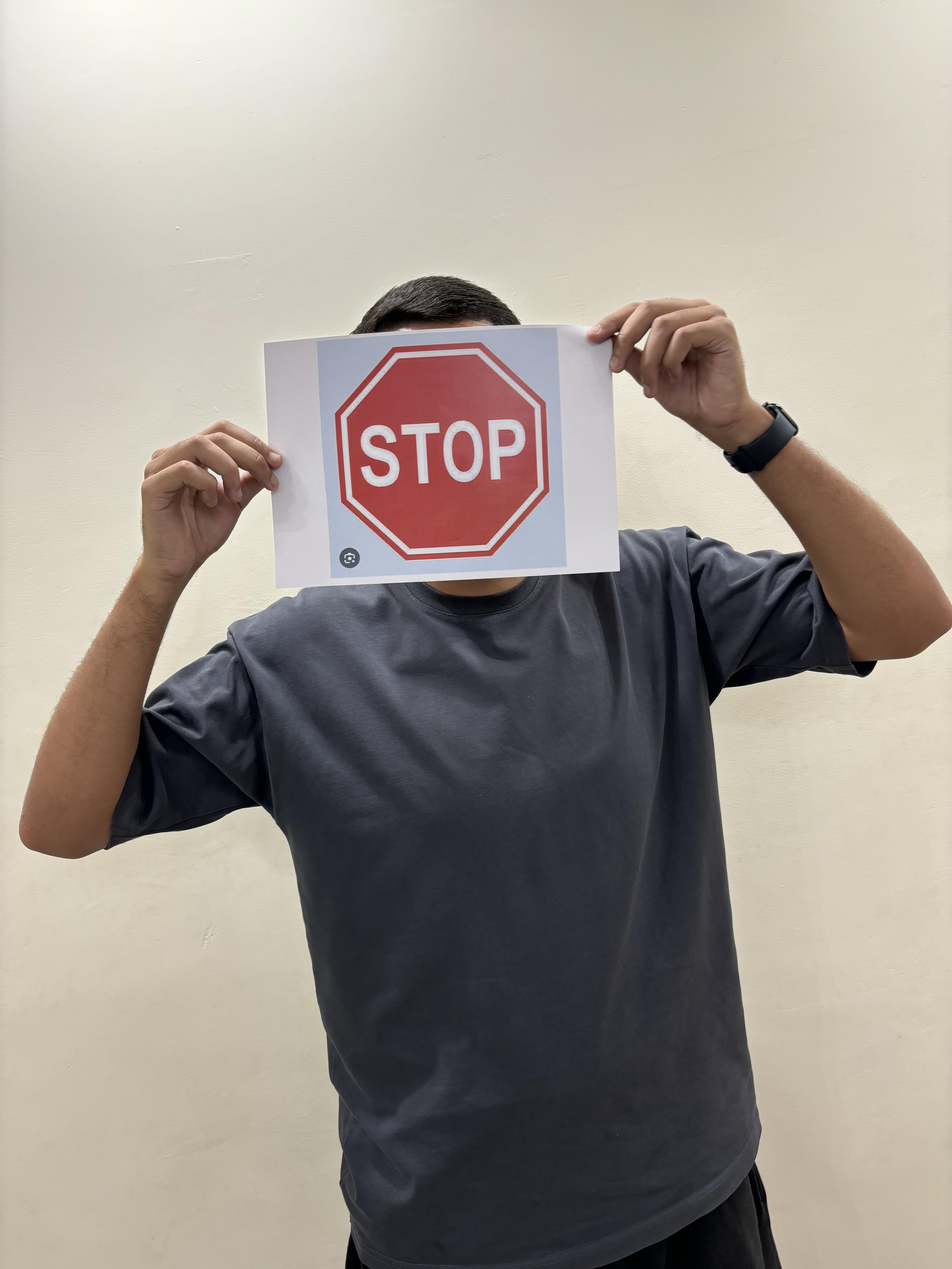Stop: (333, 343, 558, 563)
